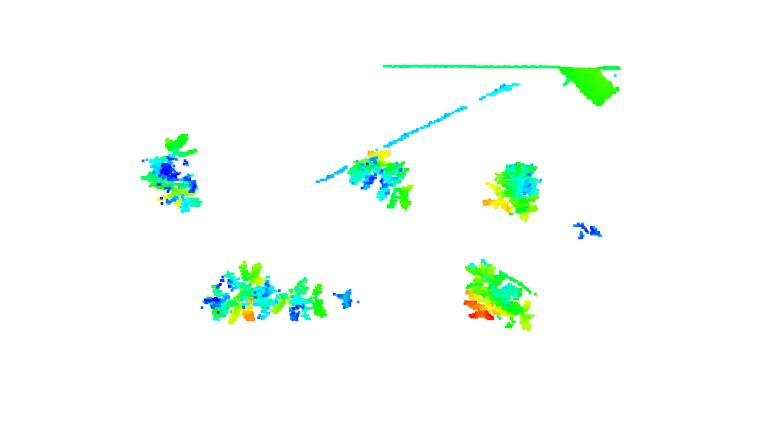chickpea: (137, 132, 207, 214), (197, 260, 282, 327), (465, 259, 538, 333), (346, 148, 417, 211), (481, 161, 545, 222), (274, 278, 359, 320)
